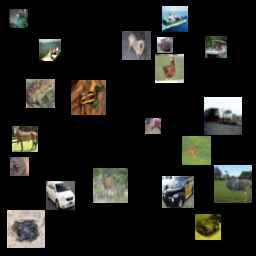automobile: (162, 176, 194, 208), (46, 181, 75, 210), (195, 214, 221, 240)
bird: (214, 165, 252, 203), (155, 54, 184, 83), (9, 9, 28, 28)
deer: (93, 168, 128, 203), (182, 136, 211, 165)
dog: (122, 31, 151, 60)
frog: (7, 210, 45, 248), (71, 80, 106, 115), (26, 79, 55, 108), (10, 157, 29, 176)
ship: (162, 6, 188, 32), (205, 36, 227, 58), (39, 39, 61, 61)
